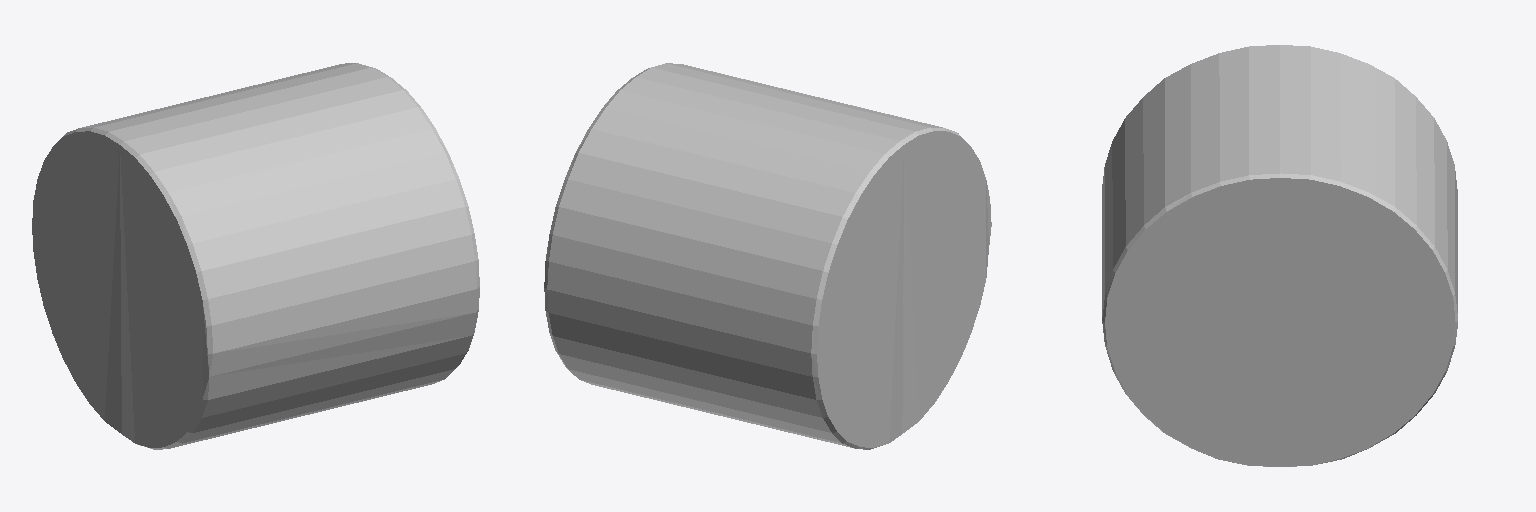
Rendered from Spiker_Mag.obj.
The picture shows the model from 3 angles: view 1: azimuth 30°, elevation 25°; view 2: azimuth 150°, elevation 25°; view 3: azimuth 270°, elevation 25°; orthographic projection.
Parts seen in each view (by area): view 1: ungrouped; view 2: ungrouped; view 3: ungrouped.
Boxes of the visible parts, x1=… form: ungrouped: x1=32, y1=63, x2=479, y2=449; ungrouped: x1=544, y1=63, x2=991, y2=449; ungrouped: x1=1102, y1=45, x2=1457, y2=466.
Size of the model in its own units: 0.0912 by 0.0938 by 0.1033.